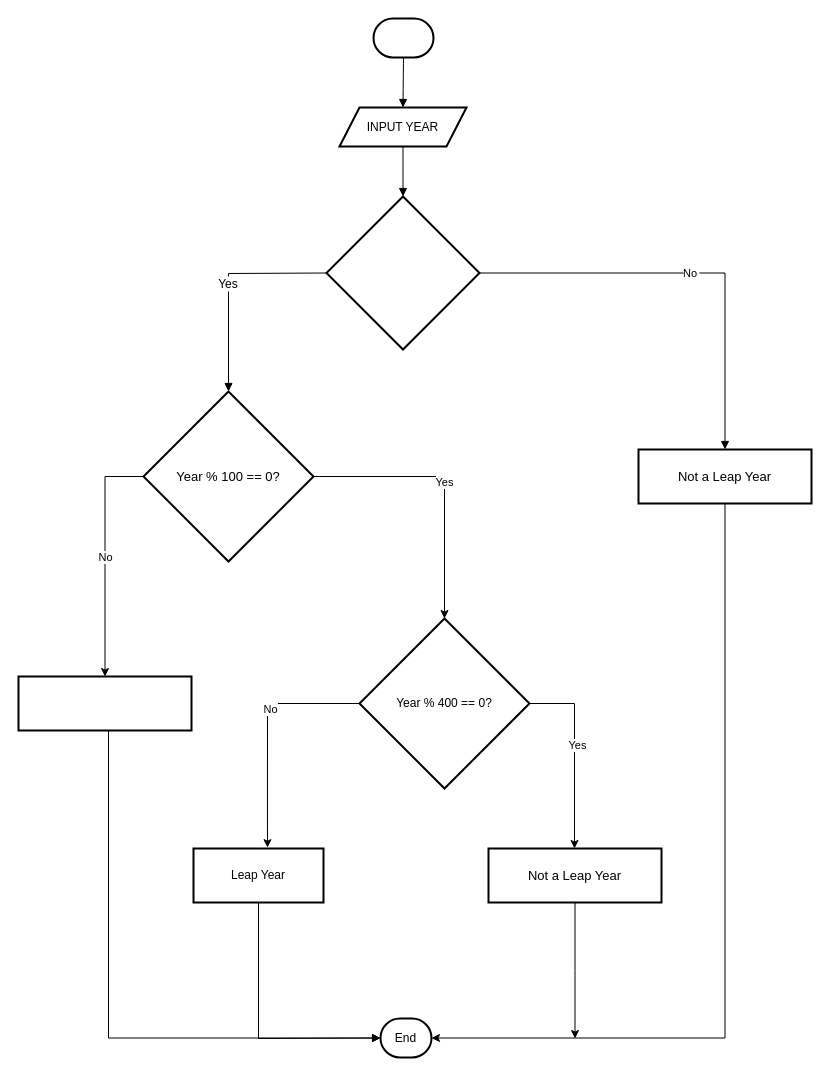
Image size: 829x1075. Some labels were removed from this diagram. Each missing label, with the centre of its shape:
A Leap Year: pixel 104 703
Start: pixel 403 37
YEAR % 4 == 0?: pixel 402 272
